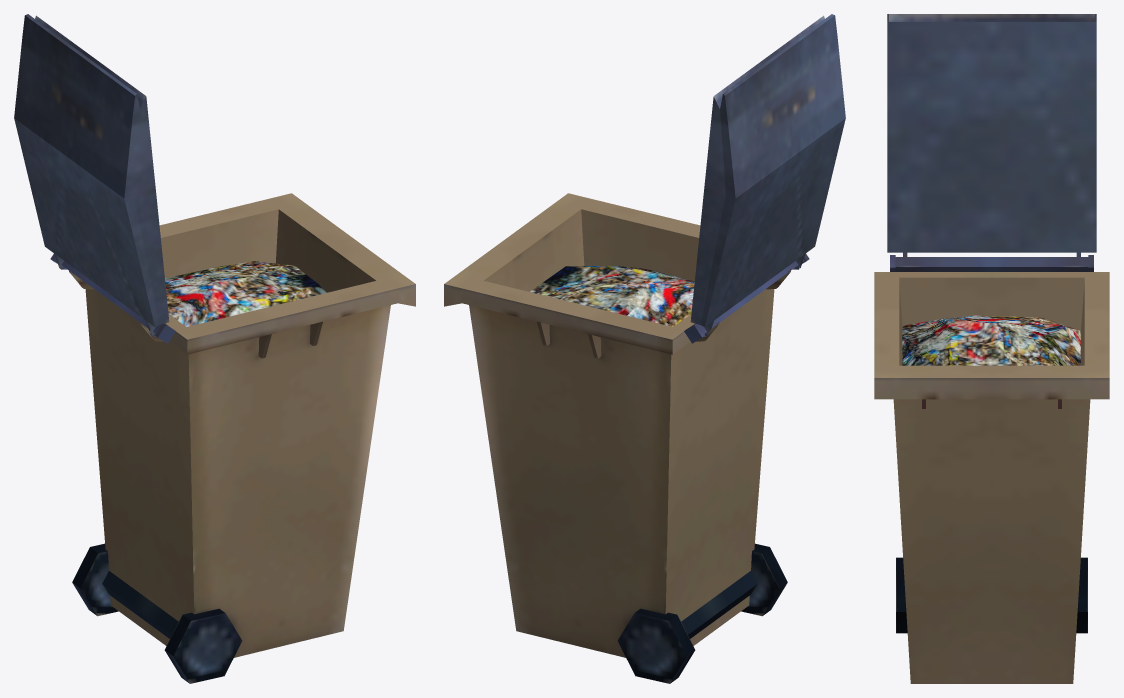
Rendered from Urban_TrashCanFull_Model.fbx.
3 renders of one model, left to right at view 1: azimuth 30°, elevation 25°; view 2: azimuth 150°, elevation 25°; view 3: azimuth 270°, elevation 25°, orthographic. The views are drawn at different scales.
Visible parts, largest first — view 1: Urban_TrashCanFull_Mesh; view 2: Urban_TrashCanFull_Mesh; view 3: Urban_TrashCanFull_Mesh.
Part boxes in pixels (x1,y1,x2,y2): Urban_TrashCanFull_Mesh: (14,14,415,683); Urban_TrashCanFull_Mesh: (444,14,845,683); Urban_TrashCanFull_Mesh: (874,14,1109,683).
Size of the model in its own units: 1.03 by 2.1 by 0.7794.
